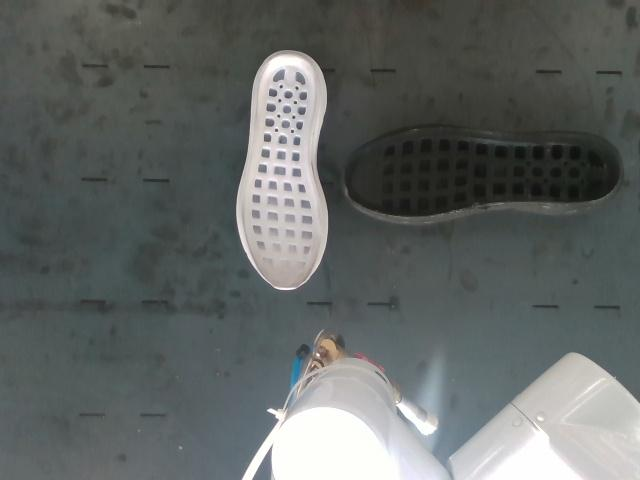shoes: (344, 127, 621, 217), (240, 55, 321, 290)
